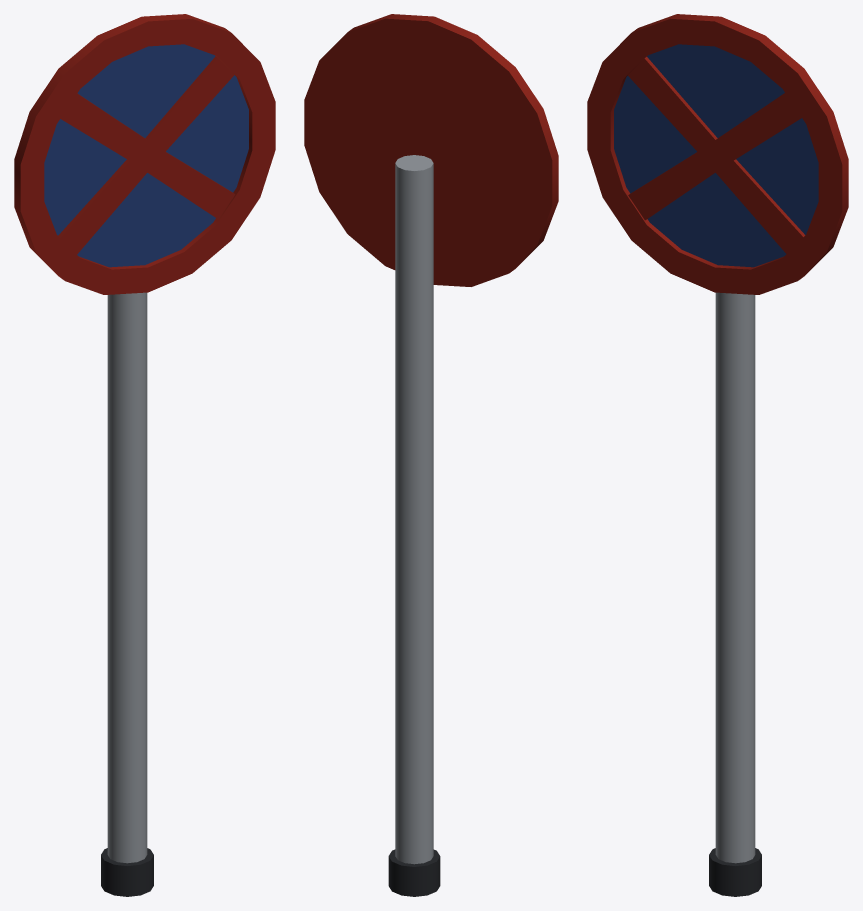
File: TrafficSign_13.fbx
The picture shows the model from 3 angles, left to right: view 1: azimuth 30°, elevation 25°; view 2: azimuth 150°, elevation 25°; view 3: azimuth 330°, elevation 25°; orthographic projection. The views are drawn at different scales.
Visible parts, largest first — view 1: TrafficSign_13; view 2: TrafficSign_13; view 3: TrafficSign_13.
Boxes of the visible parts, x1,y1,x2,y2 form: TrafficSign_13: (14, 14, 275, 896); TrafficSign_13: (304, 14, 558, 896); TrafficSign_13: (587, 14, 848, 896).
Bounding box in the file's own units: 63.99 × 211 × 14.83.
